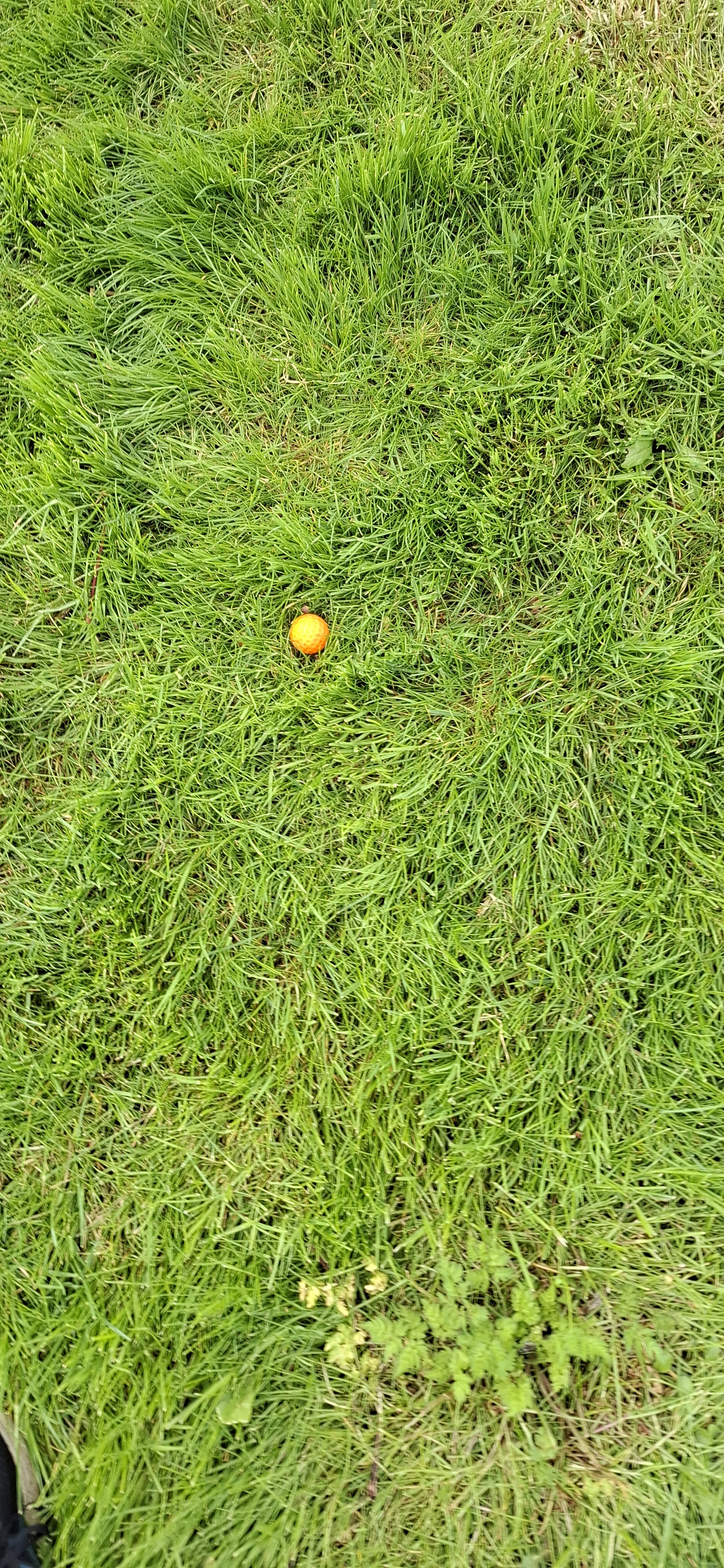ball: (283, 856, 303, 943)
